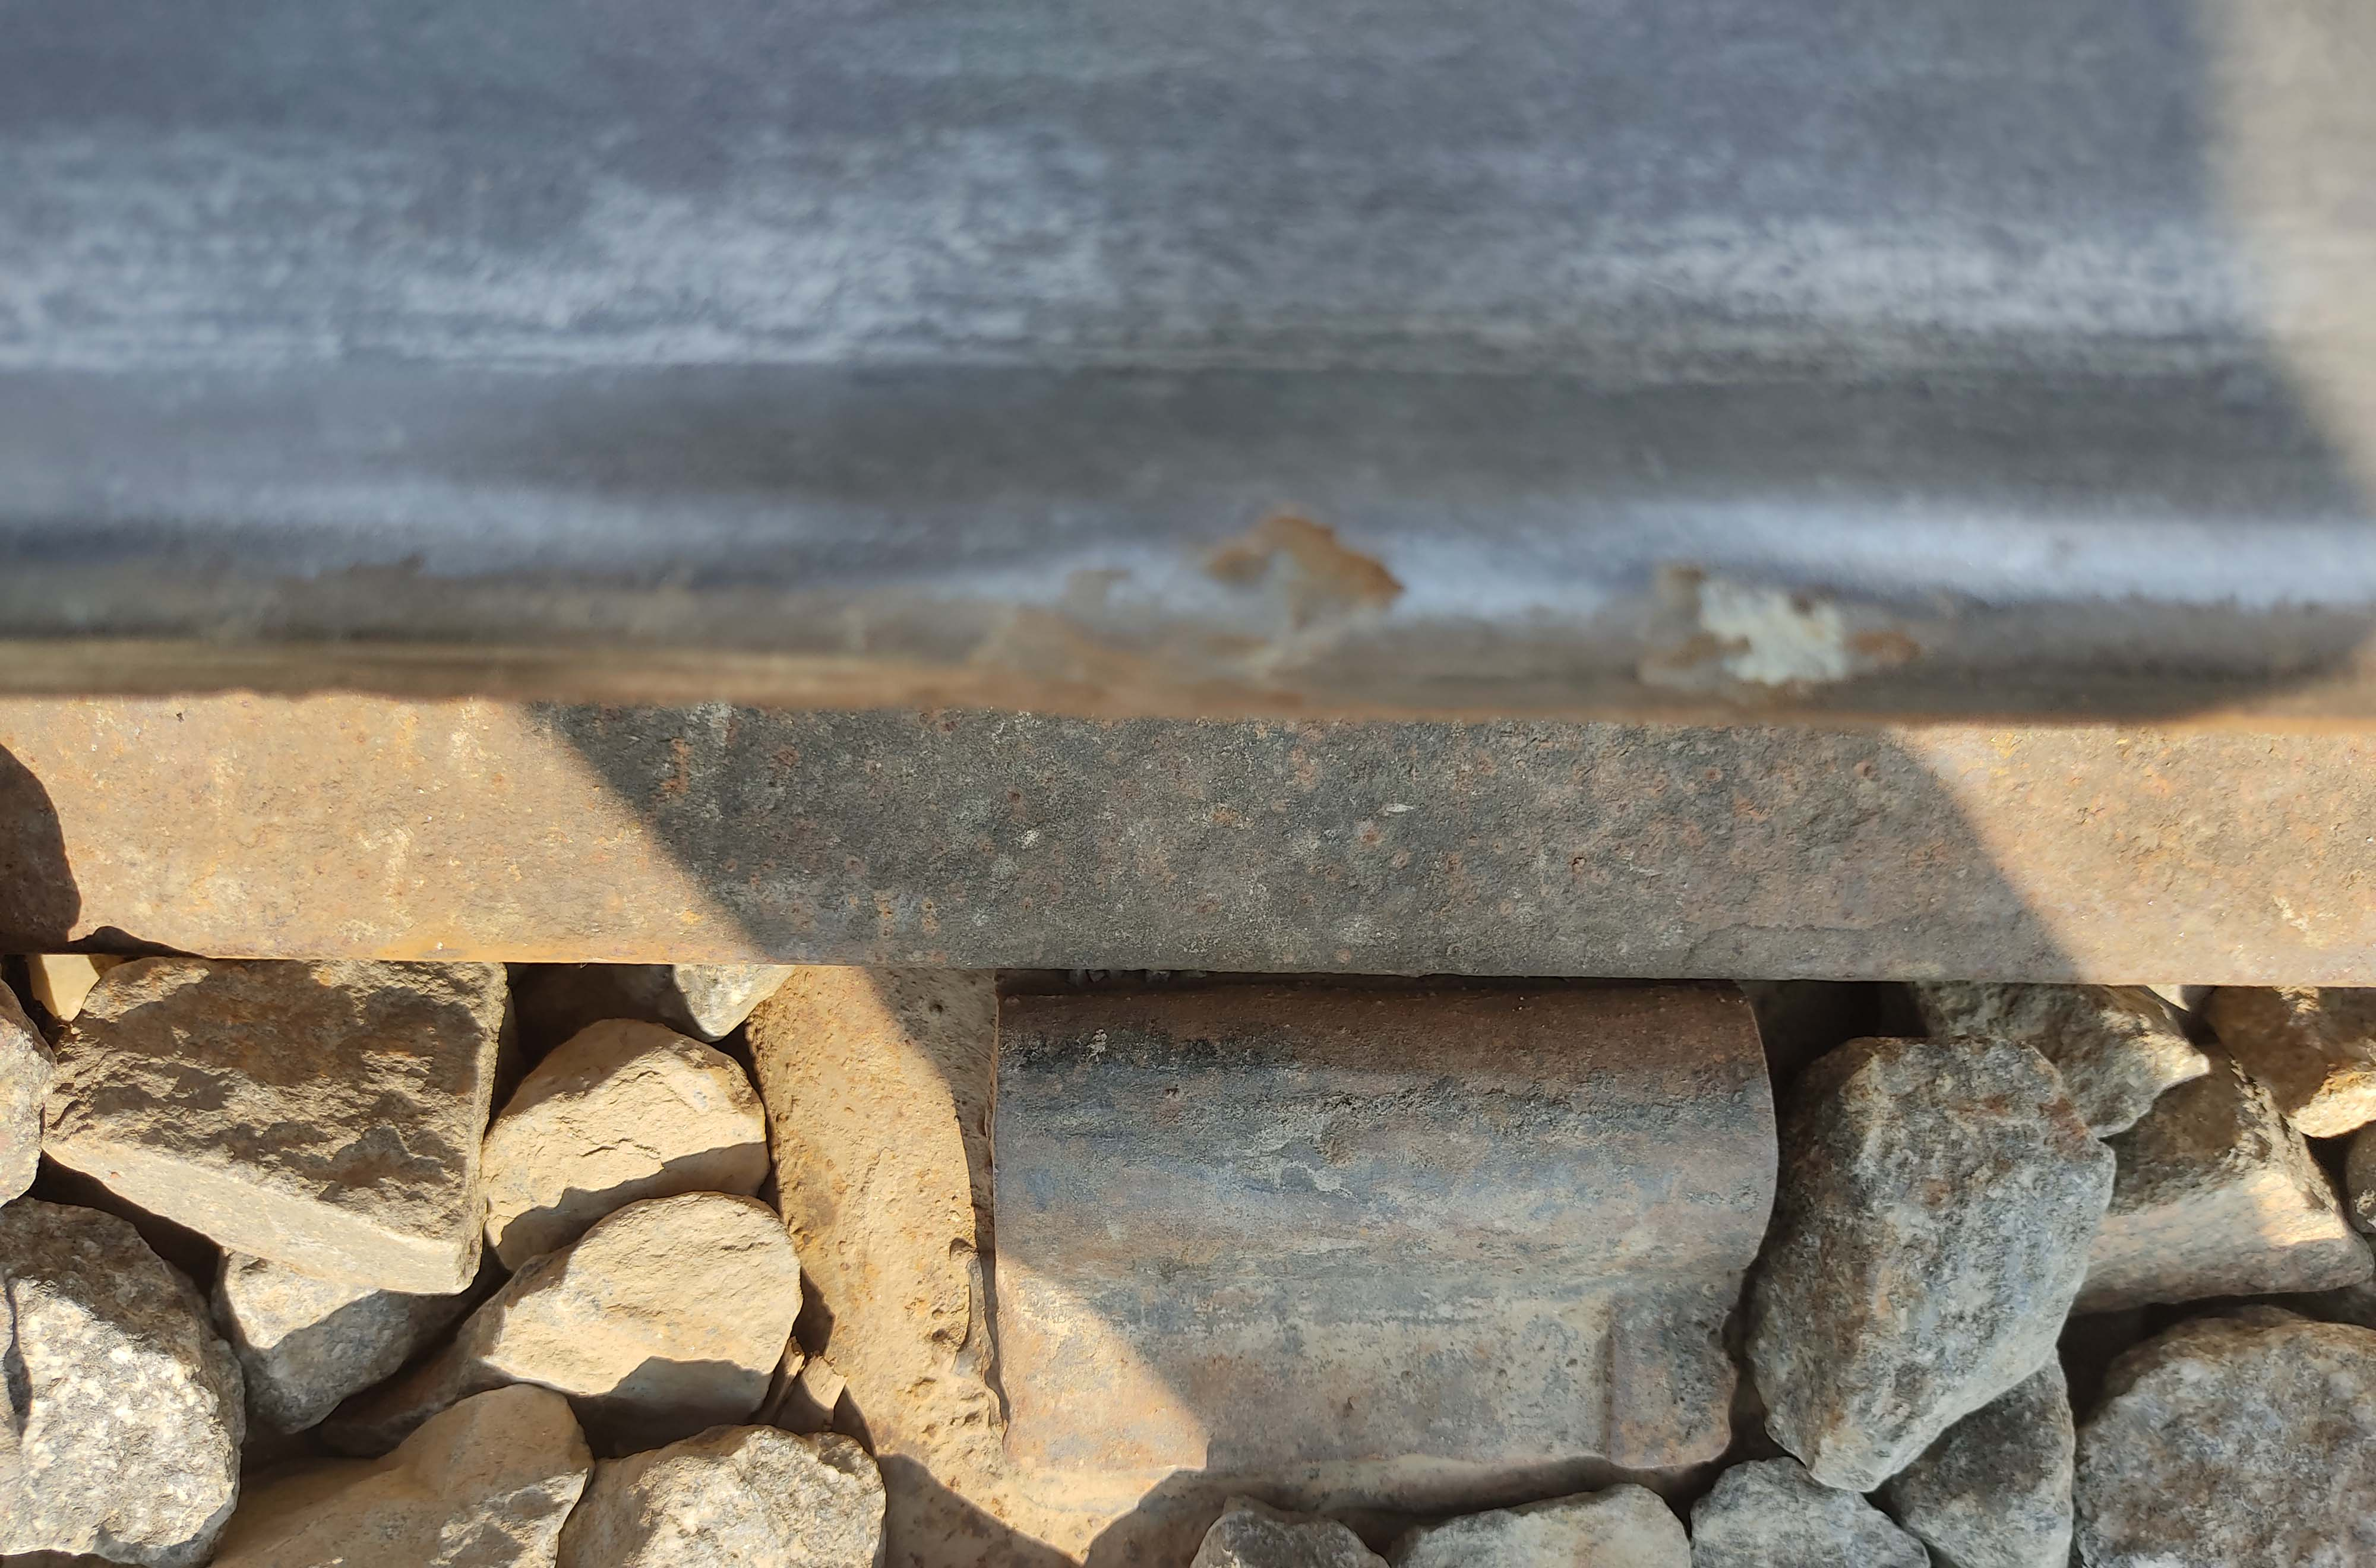error1: (957, 900, 1786, 1531)
